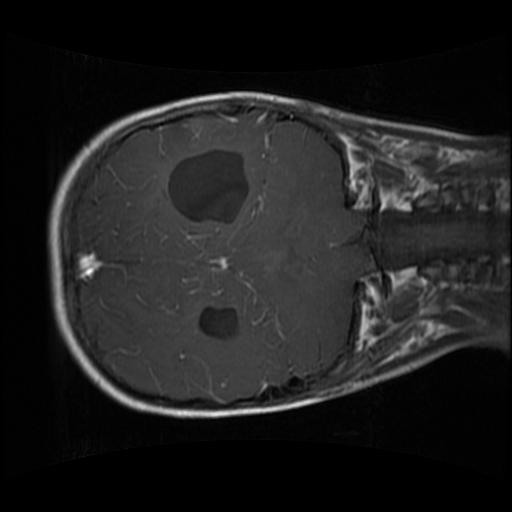glioma: (161, 141, 249, 228)
